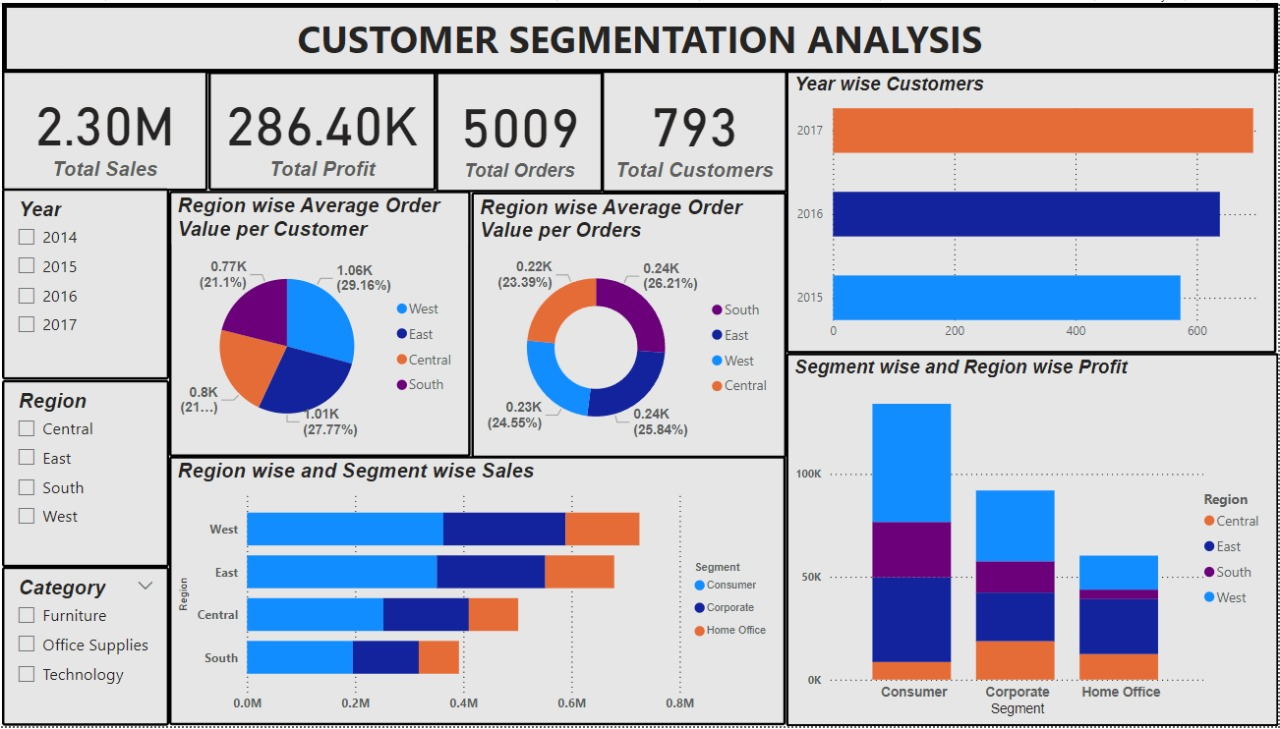

The page's visual inventory and layout, read from the dashboard file:
{"tool":"powerbi","page":{"name":"Page 1","canvas":[1280,720],"ordinal":0},"visuals":[{"type":"textbox","box":[10,0,1270,70],"z":0},{"type":"card","fields":{"Values":["Orders.Total Sales"]},"box":[10,66.7,205,120],"z":1000},{"type":"card","fields":{"Values":["Orders.Total Profit"]},"box":[215,68.3,226.7,118.3],"z":2000},{"type":"card","fields":{"Values":["Orders.Total Orders"]},"box":[441.7,68.3,166.7,120],"z":3000},{"type":"card","fields":{"Values":["Orders.Total Customers"]},"box":[606.7,66.7,185,121.7],"z":4000},{"type":"pieChart","title":"Region wise Average Order Value per Customer","fields":{"Y":["Orders.AOV_Cust"],"Category":["Orders.Region"]},"box":[176.7,186.7,300,265],"z":5000},{"type":"donutChart","title":"Region wise Average Order Value per Orders","fields":{"Y":["Orders.AOV_Order"],"Category":["Orders.Region"]},"box":[476.7,188.3,313.3,265],"z":6000},{"type":"barChart","title":"Region wise and Segment wise Sales","fields":{"Y":["Orders.Total Sales"],"Category":["Orders.Region"],"Series":["Orders.Segment"]},"box":[176.7,451.7,613.3,268.3],"z":7000},{"type":"columnChart","title":"Segment wise and Region wise Profit","fields":{"Y":["Orders.Total Profit"],"Series":["Orders.Region"],"Category":["Orders.Segment"]},"box":[790,348.3,490,371.7],"z":8000},{"type":"slicer","fields":{"Values":["Orders.Order Date.Variation.Date Hierarchy.Year"]},"box":[10,185,166.7,190],"z":10000},{"type":"slicer","fields":{"Values":["Orders.Category"]},"box":[10,561.7,166.7,158.3],"z":11000},{"type":"slicer","fields":{"Values":["Orders.Region"]},"box":[10,375,166.7,186.7],"z":12000},{"type":"barChart","title":"Year wise Customers","fields":{"Category":["Orders.Order Date.Variation.Date Hierarchy.Year"],"Y":["Orders.New_Cust_2015","Orders.New_Cust_2016","Orders.New_Cust_2017"]},"box":[790,66.7,488.3,281.7],"z":13000}]}

Visuals, with their boxes in screenshot pixels (x1, y1, x2, y2), scaled from the page's 1280x720 canvas onto the 1280x729 screenshot:
textbox: bbox=(10, 0, 1279, 71)
card - Orders.Total Sales: bbox=(10, 68, 215, 189)
card - Orders.Total Profit: bbox=(215, 69, 442, 189)
card - Orders.Total Orders: bbox=(442, 69, 608, 191)
card - Orders.Total Customers: bbox=(607, 68, 792, 191)
"Region wise Average Order Value per Customer" pieChart: bbox=(177, 189, 477, 457)
"Region wise Average Order Value per Orders" donutChart: bbox=(477, 191, 790, 459)
"Region wise and Segment wise Sales" barChart: bbox=(177, 457, 790, 728)
"Segment wise and Region wise Profit" columnChart: bbox=(790, 353, 1279, 728)
slicer - Orders.Order Date.Variation.Date Hierarchy.Year: bbox=(10, 187, 177, 380)
slicer - Orders.Category: bbox=(10, 569, 177, 728)
slicer - Orders.Region: bbox=(10, 380, 177, 569)
"Year wise Customers" barChart: bbox=(790, 68, 1278, 353)
